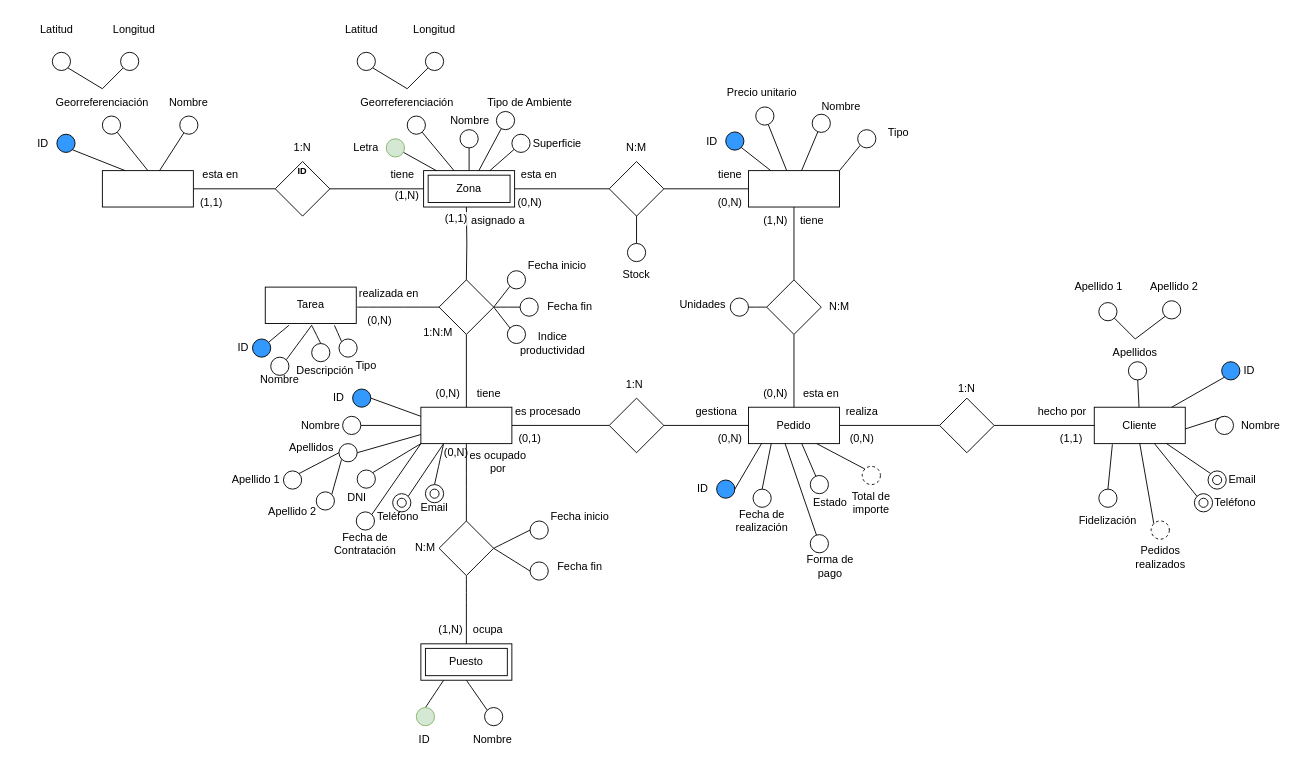
Image size: 1303x768. Some labels were removed from this diagram. The shapes that lost their labels are listed below. From the top down, each one's centre as x and y in pixels, then its label:
At point 147,188: "Vivero".
At point 793,188: "Producto".
At point 466,425: "Empleado".
